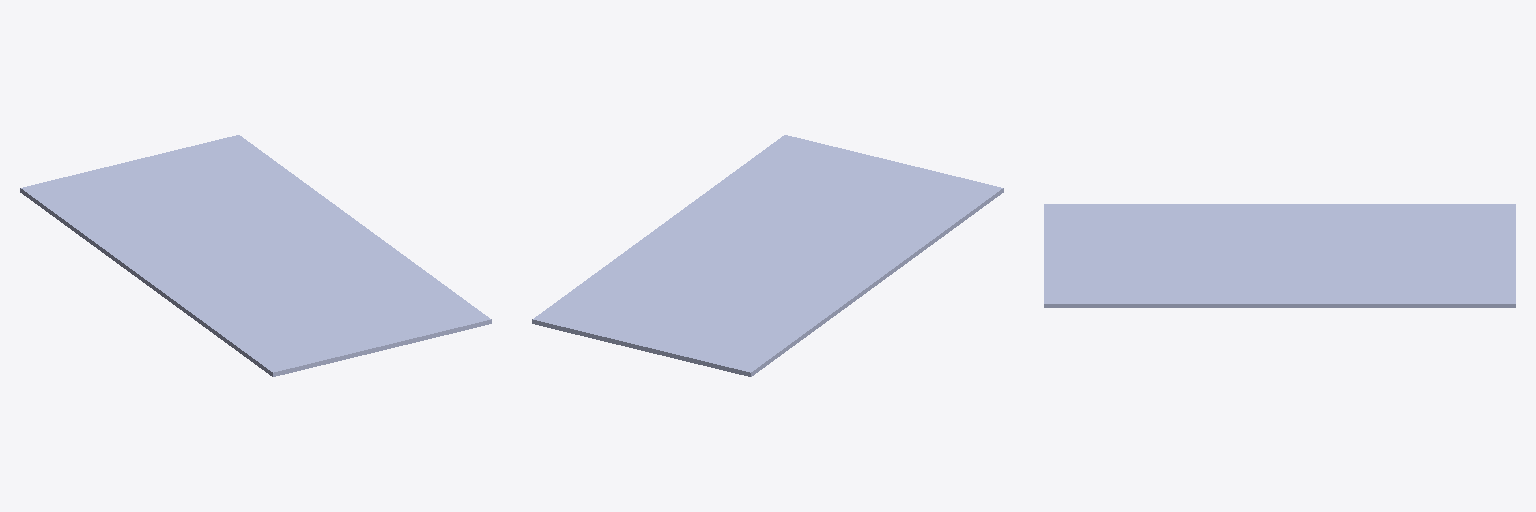
robot.urdf — floorassemblr1048:
<?xml version="1.0" encoding="utf-8"?>
<!-- This URDF was automatically created by SolidWorks to URDF Exporter! Originally created by [author] ([email redacted]) 
     Commit Version: 1.6.0-1-g15f4949  Build Version: 1.6.7594.29634
     For more information, please see http://wiki.ros.org/sw_urdf_exporter -->
<robot
  name="floorassemblr1048">
  <link
    name="base_link">
    <inertial>
      <origin
        xyz="0.148588308492964 -1.66609995121903 0.932077952055182"
        rpy="0 0 0" />
      <mass
        value="5" />
      <inertia
        ixx="0.416708333333334"
        ixy="-1.15648231731787E-18"
        ixz="7.22811476320625E-35"
        iyy="0.104208333333333"
        iyz="2.55100811080624E-17"
        izz="0.520833333333334" />
    </inertial>
    <visual>
      <origin
        xyz="0 0 0"
        rpy="0 0 0" />
      <geometry>
        <mesh
          filename="package://floorassemblr1048/meshes/base_link.STL" />
      </geometry>
      <material
        name="">
        <color
          rgba="0.796078431372549 0.823529411764706 0.937254901960784 1" />
      </material>
    </visual>
    <collision>
      <origin
        xyz="0 0 0"
        rpy="0 0 0" />
      <geometry>
        <mesh
          filename="package://floorassemblr1048/meshes/base_link.STL" />
      </geometry>
    </collision>
  </link>
  <link
    name="dfsdf">
    <inertial>
      <origin
        xyz="0 0.00500000000000012 2.22044604925031E-16"
        rpy="0 0 0" />
      <mass
        value="5" />
      <inertia
        ixx="0.416708333333334"
        ixy="0"
        ixz="0"
        iyy="0.520833333333334"
        iyz="-2.31530069315361E-35"
        izz="0.104208333333333" />
    </inertial>
    <visual>
      <origin
        xyz="0 0 0"
        rpy="0 0 0" />
      <geometry>
        <mesh
          filename="package://floorassemblr1048/meshes/dfsdf.STL" />
      </geometry>
      <material
        name="">
        <color
          rgba="0.796078431372549 0.823529411764706 0.937254901960784 1" />
      </material>
    </visual>
    <collision>
      <origin
        xyz="0 0 0"
        rpy="0 0 0" />
      <geometry>
        <mesh
          filename="package://floorassemblr1048/meshes/dfsdf.STL" />
      </geometry>
    </collision>
  </link>
  <joint
    name="ser"
    type="planar">
    <origin
      xyz="0.64859 -1.6661 0.92708"
      rpy="1.5708 0 0" />
    <parent
      link="base_link" />
    <child
      link="dfsdf" />
    <axis
      xyz="0 0 0" />
  </joint>
</robot>

--- Render facts (derived) ---
3 views of the same robot in one strip: view 1: azimuth 30°, elevation 25°; view 2: azimuth 150°, elevation 25°; view 3: azimuth 270°, elevation 25° (orthographic).
Robot: floorassemblr1048 — 2 links, 1 joints (1 planar); root link base_link; default pose: every joint at zero.
Visible links, largest first — view 1: base_link; view 2: base_link; view 3: base_link.
Boxes of the visible links, x1=… form: base_link: x1=20, y1=135, x2=491, y2=376; base_link: x1=532, y1=135, x2=1003, y2=376; base_link: x1=1044, y1=204, x2=1515, y2=307.
Bounding box of the posed robot: 0.5 × 1 × 0.01 m (x, y, z).
Meshes: 2 distinct files referenced, 1 mesh visuals loaded (1 binary STL); not drawn: 1 (reference not matched to a file when rendering).